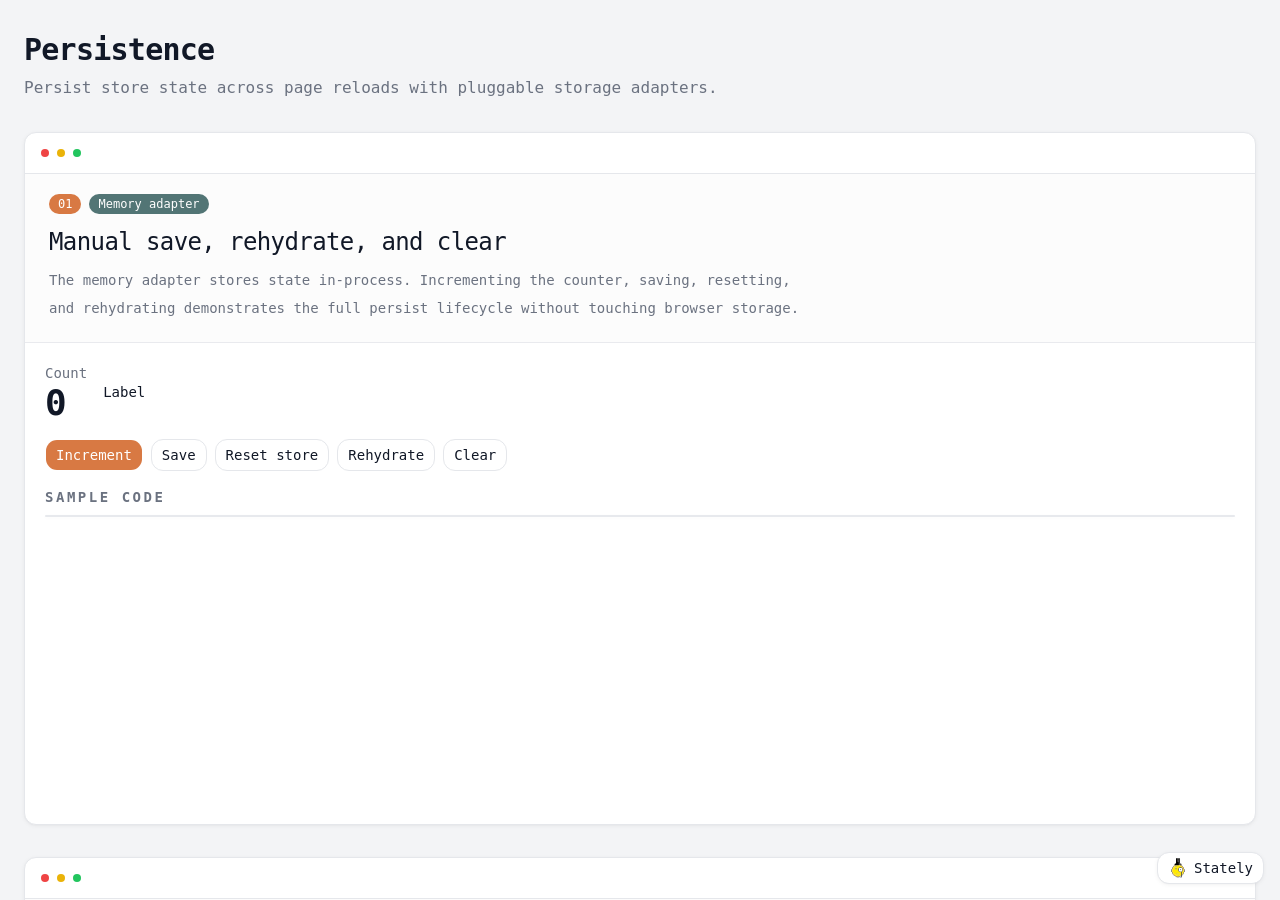
Test: Persistence page › memory adapter: clear wipes the adapter and resets the store
What coordinates should you click on to do the following:
click the button "Increment"
I would click on:
 (94, 455)
Its box is top-left (45, 439), bottom-right (143, 471).
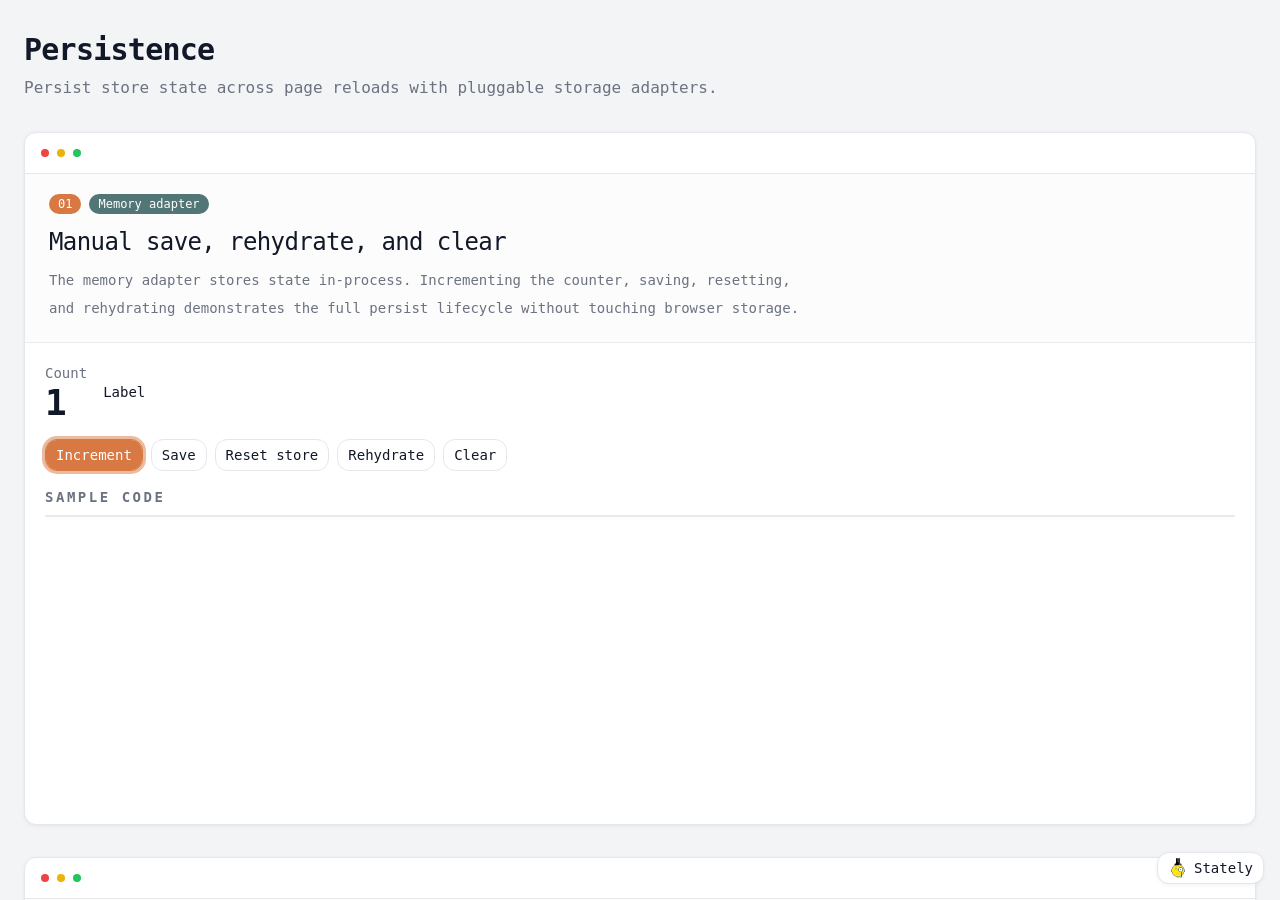
What coordinates should you click on to do the following:
click the button with test id "persist-basic-save"
I would click on:
 (179, 455)
Its box is top-left (151, 439), bottom-right (207, 471).
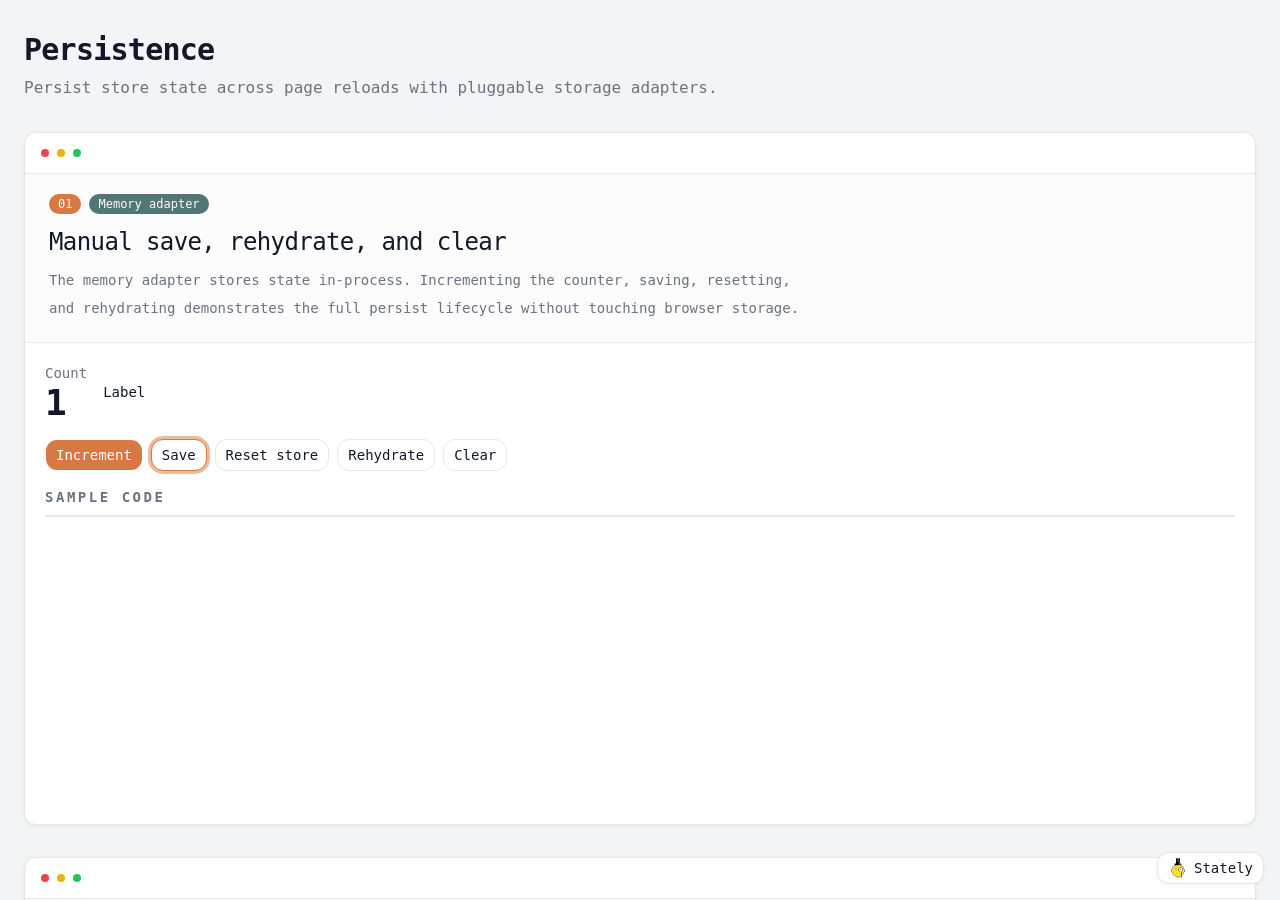
What coordinates should you click on to do the following:
click the button with test id "persist-basic-clear"
I would click on:
 (475, 455)
Its box is top-left (443, 439), bottom-right (507, 471).
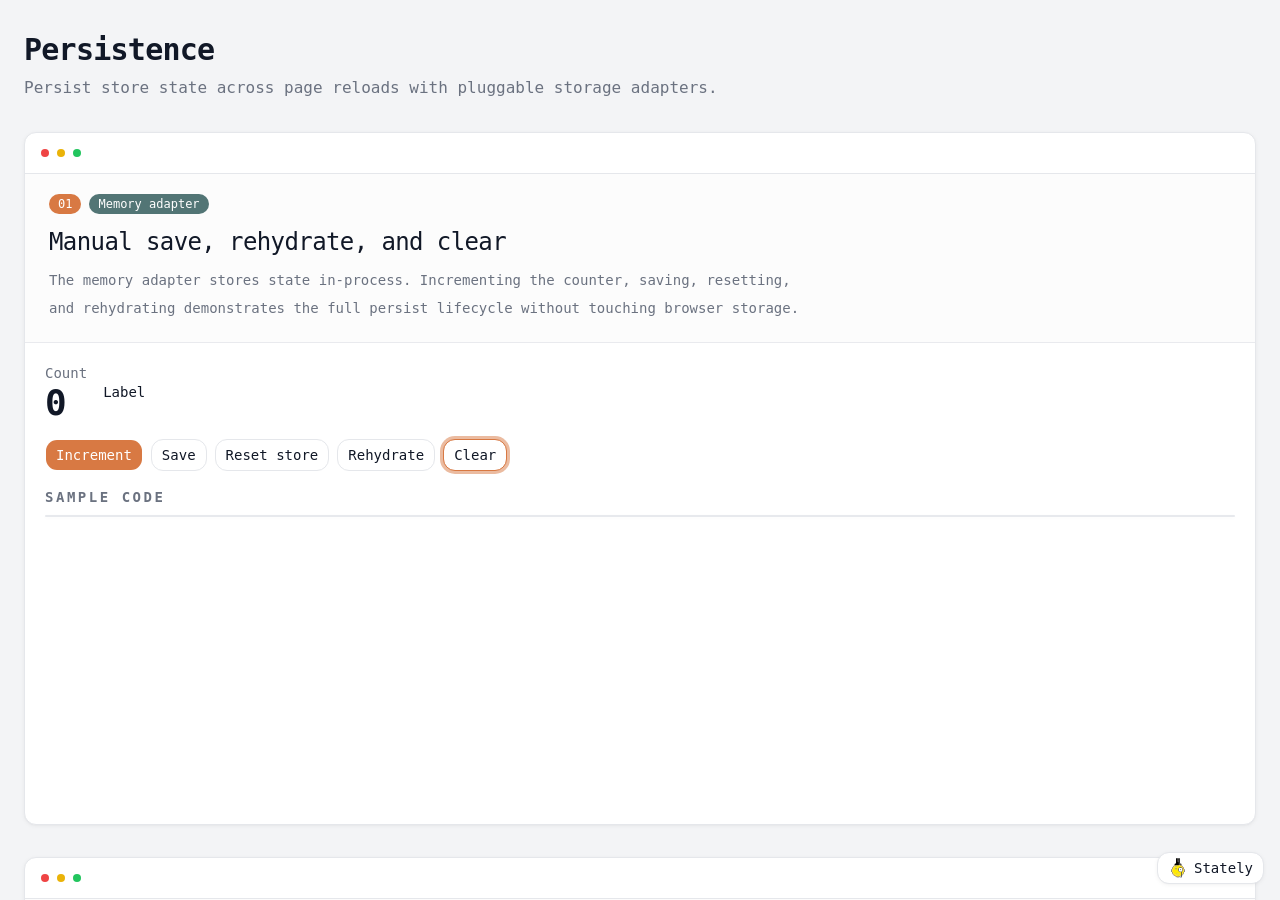
Result: the text with test id "persist-basic-count" reads "0" at top-left (45, 382), bottom-right (67, 423)
